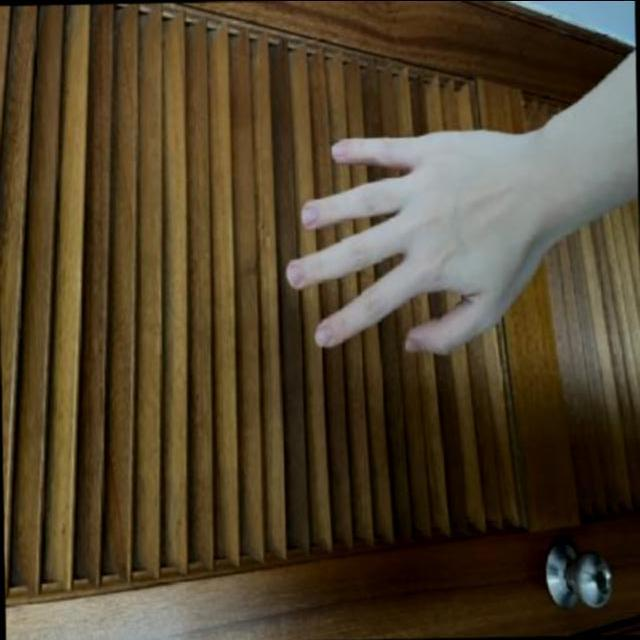hand: (272, 114, 550, 366)
